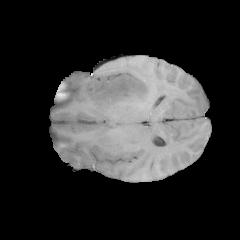glioma: (89, 72, 166, 107)
